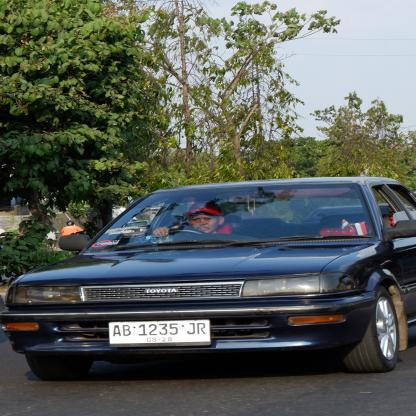Plat-Nomor: (108, 319, 212, 347)
